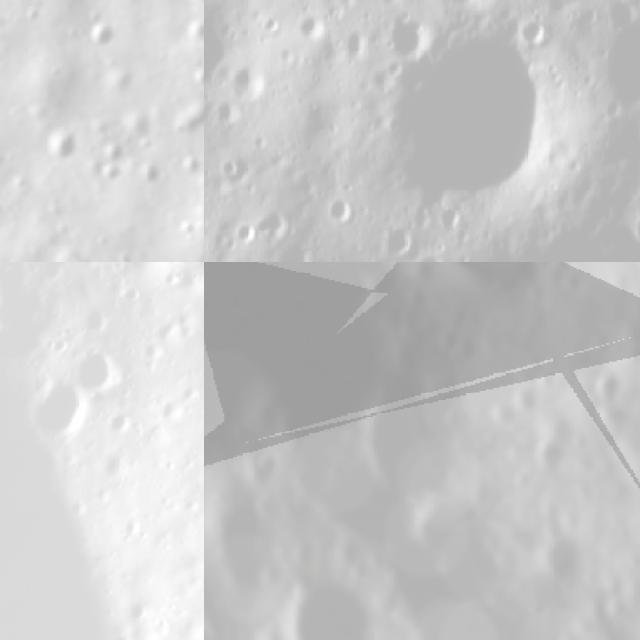crater: (320, 329, 514, 533), (372, 24, 562, 205), (204, 465, 310, 611), (262, 556, 393, 640), (386, 262, 583, 317), (565, 347, 640, 454), (204, 398, 246, 580), (585, 0, 640, 116), (22, 375, 99, 452), (521, 522, 597, 597), (204, 0, 252, 109), (66, 344, 132, 408), (522, 421, 582, 484), (378, 14, 430, 64), (42, 127, 78, 169), (376, 226, 416, 262), (291, 12, 326, 52), (580, 616, 638, 640), (83, 22, 126, 54), (624, 178, 640, 261), (267, 236, 318, 262), (235, 67, 271, 103), (516, 12, 552, 47), (132, 163, 169, 191), (338, 30, 368, 64), (430, 206, 467, 232), (102, 139, 125, 171), (88, 165, 122, 186), (181, 20, 204, 51), (408, 244, 445, 262)
